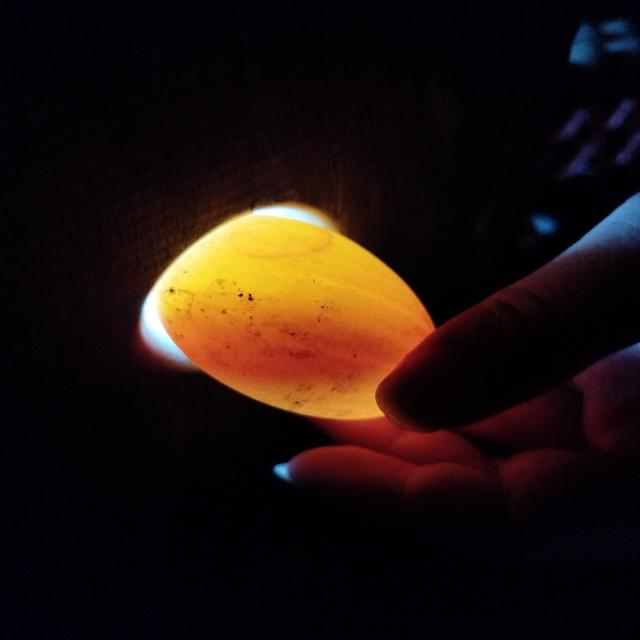Gema Quebrada: (159, 306, 401, 381)
